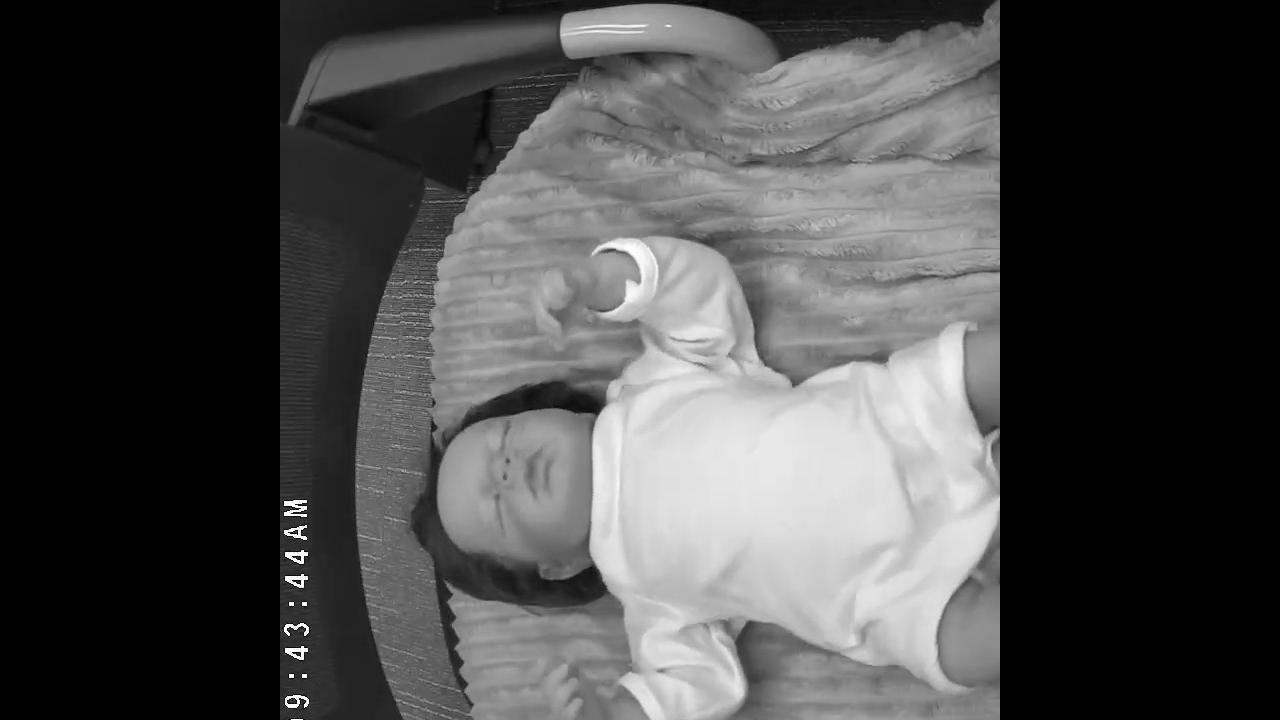hand: (528, 257, 599, 350), (533, 650, 609, 720)
